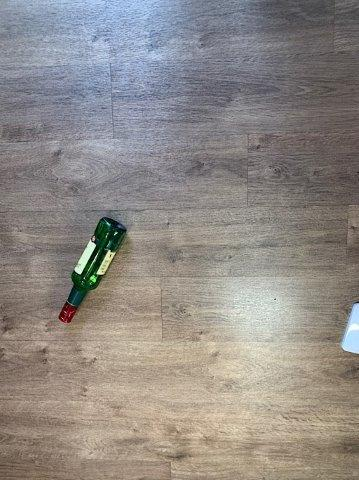botolkaca: (60, 217, 126, 321)
